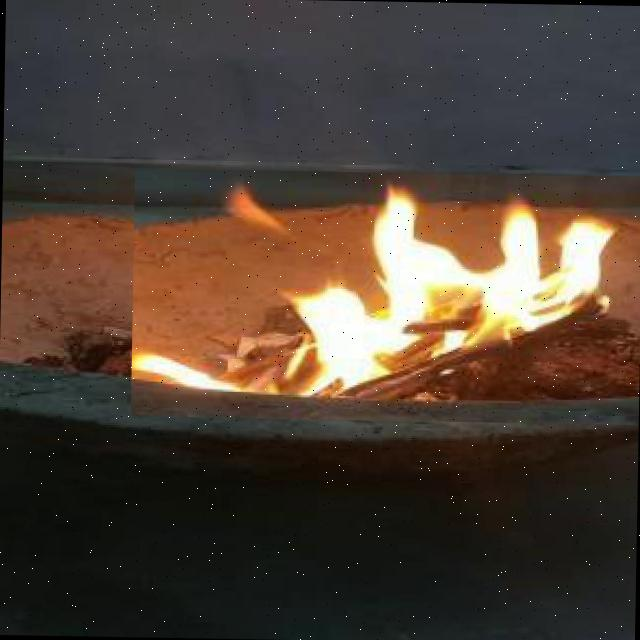fire: (130, 167, 640, 424)
